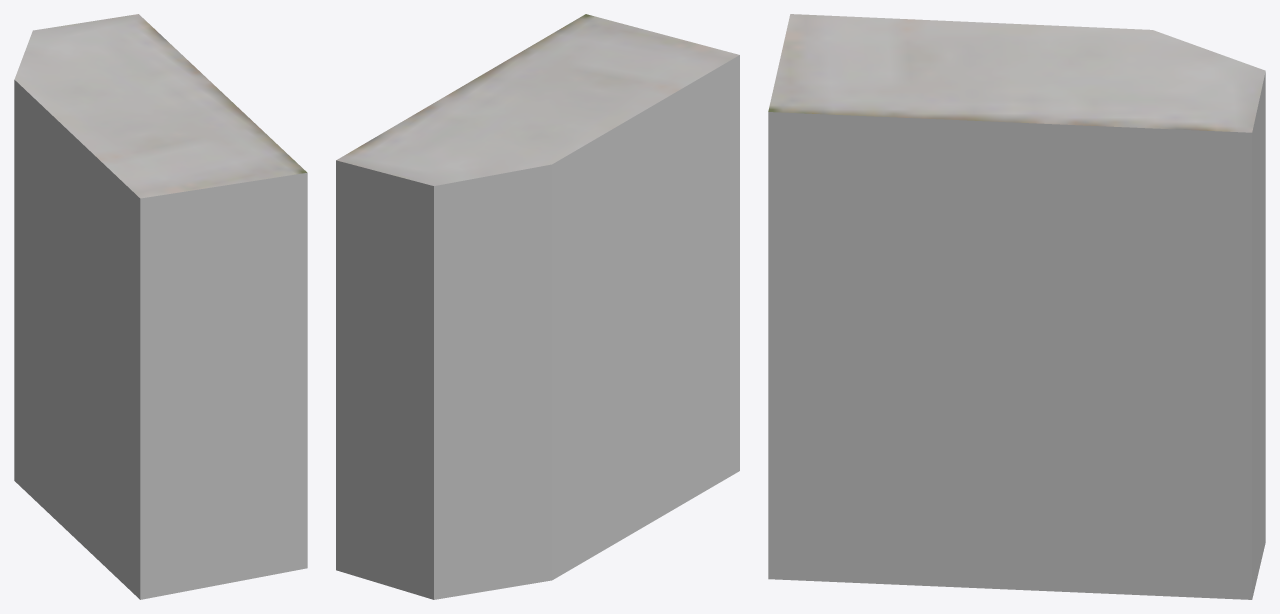
The model's file is DEBW_0010007TI02.gltf.
The picture shows the model from 3 angles, left to right: view 1: azimuth 30°, elevation 25°; view 2: azimuth 150°, elevation 25°; view 3: azimuth 270°, elevation 25°; orthographic projection. The views are drawn at different scales.
Visible parts, largest first — view 1: Z_UP; view 2: Z_UP; view 3: Z_UP.
Boxes of the visible parts, <box> form: Z_UP: <box>14,14,307,599</box>; Z_UP: <box>336,14,739,599</box>; Z_UP: <box>768,14,1265,599</box>.
Bounding box in the file's own units: 5.27 × 10.42 × 9.91.
2 materials, 1 textured.
